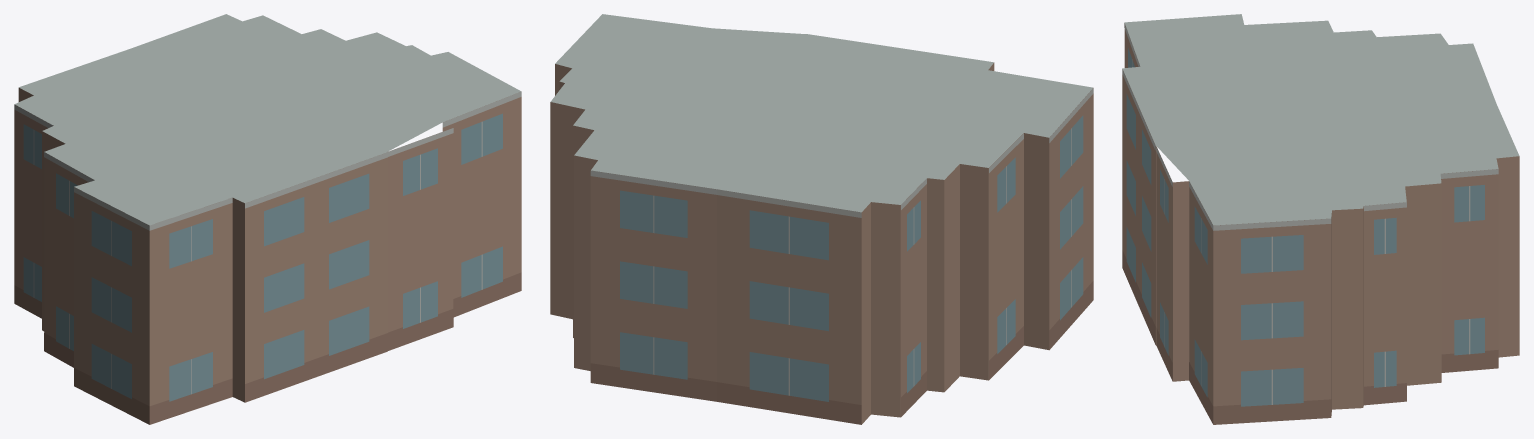
The model's file is survey-upis-32986224.glb.
3 views of the same model, side by side, from view 1: azimuth 30°, elevation 25°; view 2: azimuth 150°, elevation 25°; view 3: azimuth 270°, elevation 25° (orthographic). The views are drawn at different scales.
Visible parts, largest first — view 1: survey-upis-32986224.tmp; view 2: survey-upis-32986224.tmp; view 3: survey-upis-32986224.tmp.
Boxes of the visible parts, left/top/right/bottom form: survey-upis-32986224.tmp: left=14, top=14, right=521, bottom=424; survey-upis-32986224.tmp: left=550, top=14, right=1093, bottom=424; survey-upis-32986224.tmp: left=1122, top=14, right=1519, bottom=424.
Size of the model in its own units: 20.83 by 9.15 by 16.53.
